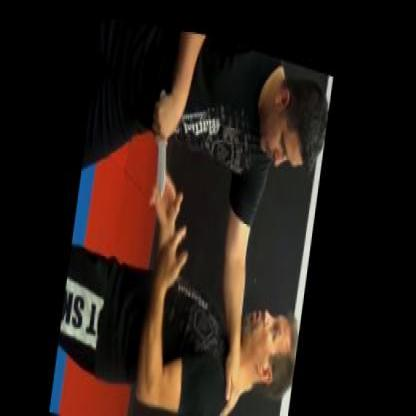knife: (146, 76, 180, 196)
